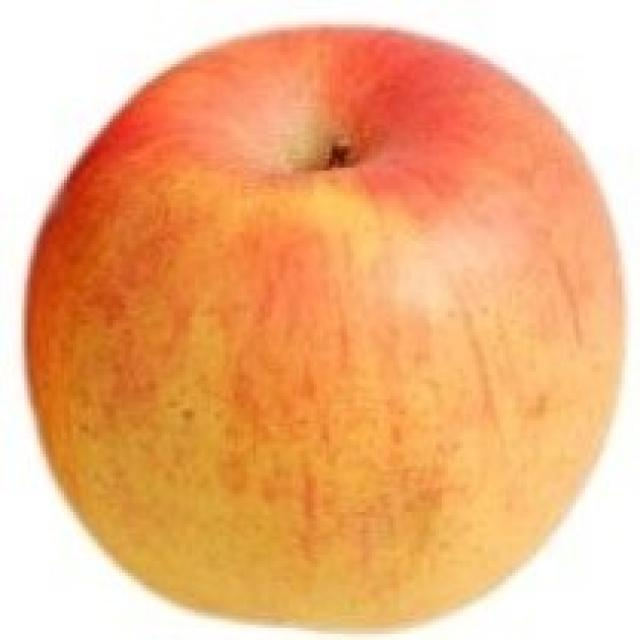75-_ripeness: (19, 21, 626, 634)
